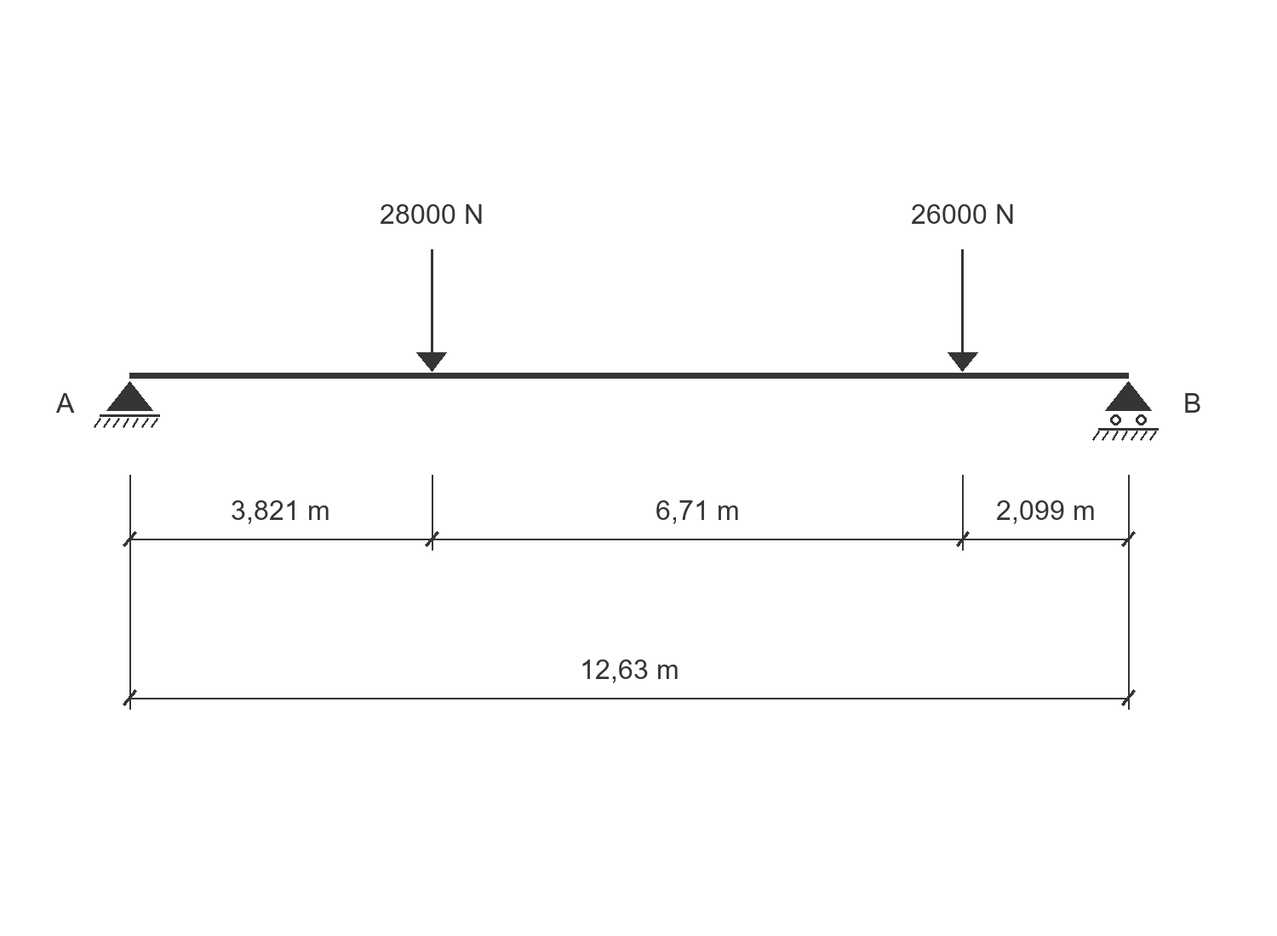pin_support: (94, 381, 160, 428)
point_load: (416, 249, 447, 372), (948, 249, 978, 372)
roller_support: (1092, 381, 1159, 441)
